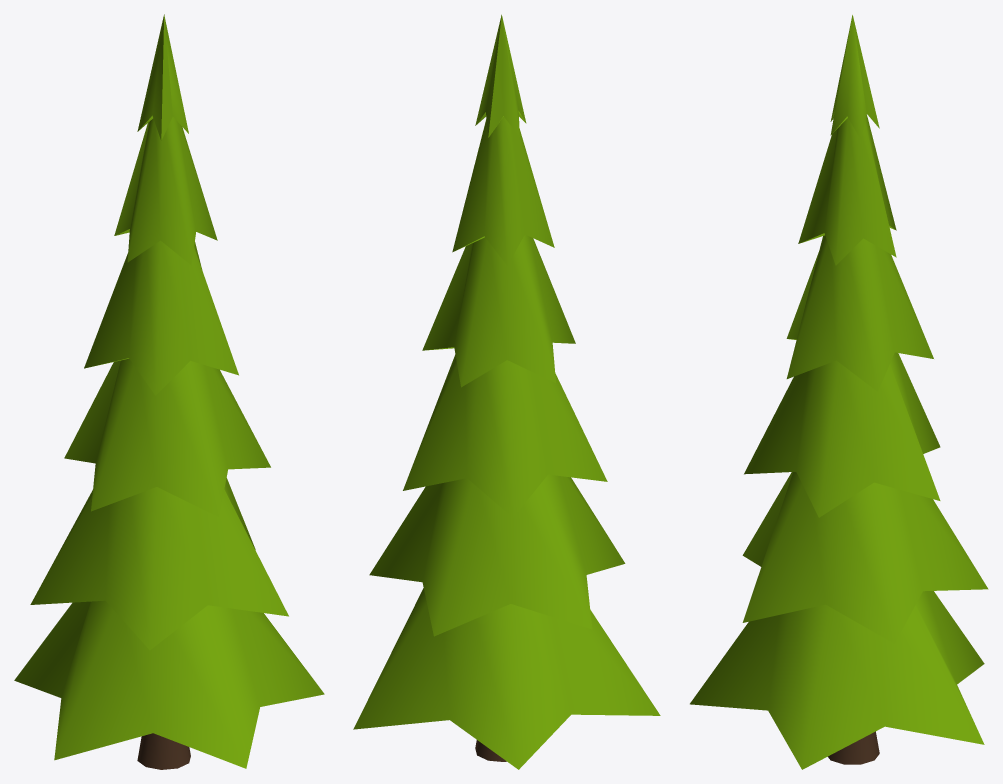
File: tree1.gltf
3 views of the same model, side by side, from view 1: azimuth 30°, elevation 25°; view 2: azimuth 150°, elevation 25°; view 3: azimuth 270°, elevation 25° (orthographic).
Visible parts, largest first — view 1: Cylinder; view 2: Cylinder; view 3: Cylinder.
Boxes of the visible parts, left/top/right/bottom form: Cylinder: left=14, top=14, right=324, bottom=769; Cylinder: left=353, top=14, right=660, bottom=769; Cylinder: left=690, top=15, right=988, bottom=769.
Size of the model in its own units: 5.71 by 15 by 5.5.
1 material, 1 textured.
